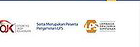ojk: (1, 19, 33, 36)
